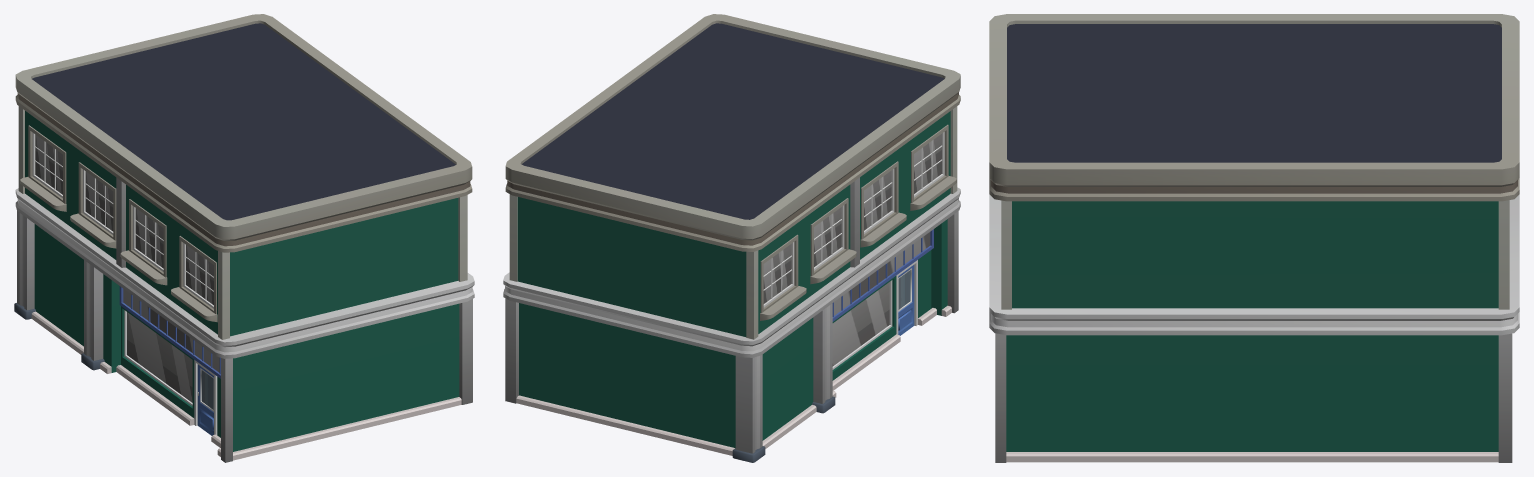
Rendered from Building_11_2_D.fbx.
The picture shows the model from 3 angles, left to right: view 1: azimuth 30°, elevation 25°; view 2: azimuth 150°, elevation 25°; view 3: azimuth 270°, elevation 25°; orthographic projection. The views are drawn at different scales.
Visible parts, largest first — view 1: Building_11_2_D; view 2: Building_11_2_D; view 3: Building_11_2_D.
Boxes of the visible parts, x1,y1,x2,y2 form: Building_11_2_D: (14,14,474,462); Building_11_2_D: (503,14,960,462); Building_11_2_D: (989,14,1519,462).
Bounding box in the file's own units: 827 × 714 × 1163.
